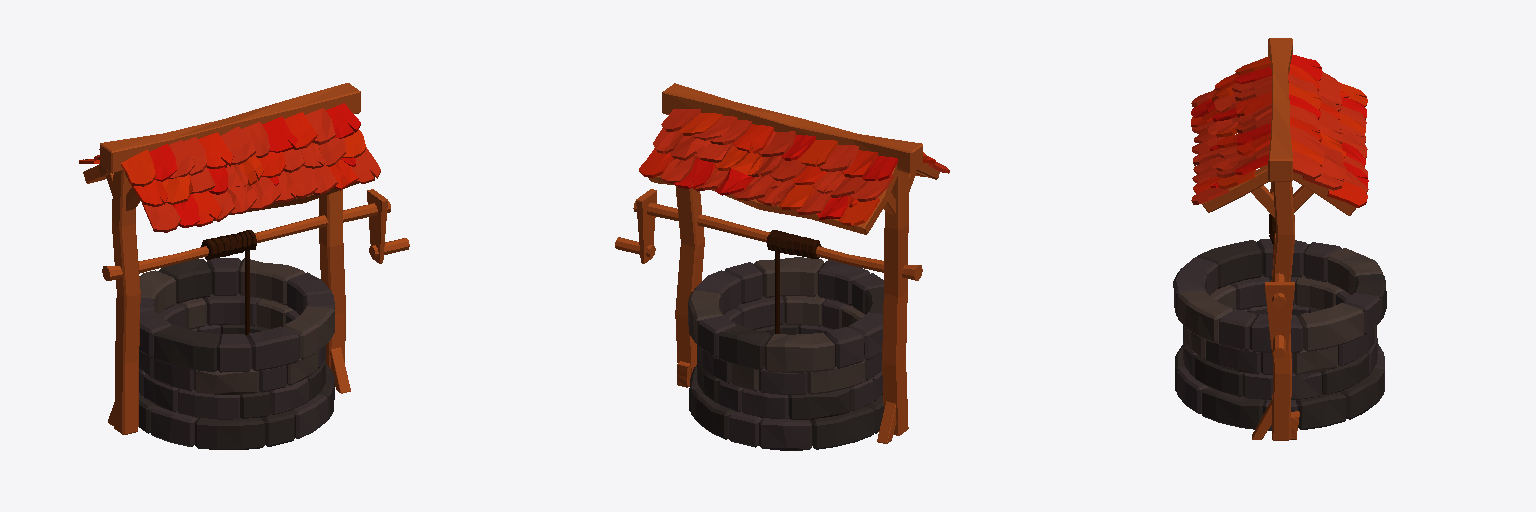
Rendered from well.obj.
3 views of the same model, side by side, from view 1: azimuth 30°, elevation 25°; view 2: azimuth 150°, elevation 25°; view 3: azimuth 270°, elevation 25° (orthographic).
Visible parts, largest first — view 1: Cube.001; view 2: Cube.001; view 3: Cube.001.
Boxes of the visible parts, x1,y1,x2,y2 form: Cube.001: [79, 83, 409, 449]; Cube.001: [615, 83, 949, 450]; Cube.001: [1173, 38, 1386, 440].
Bounding box in the file's own units: 22.86 × 21.08 × 14.05.